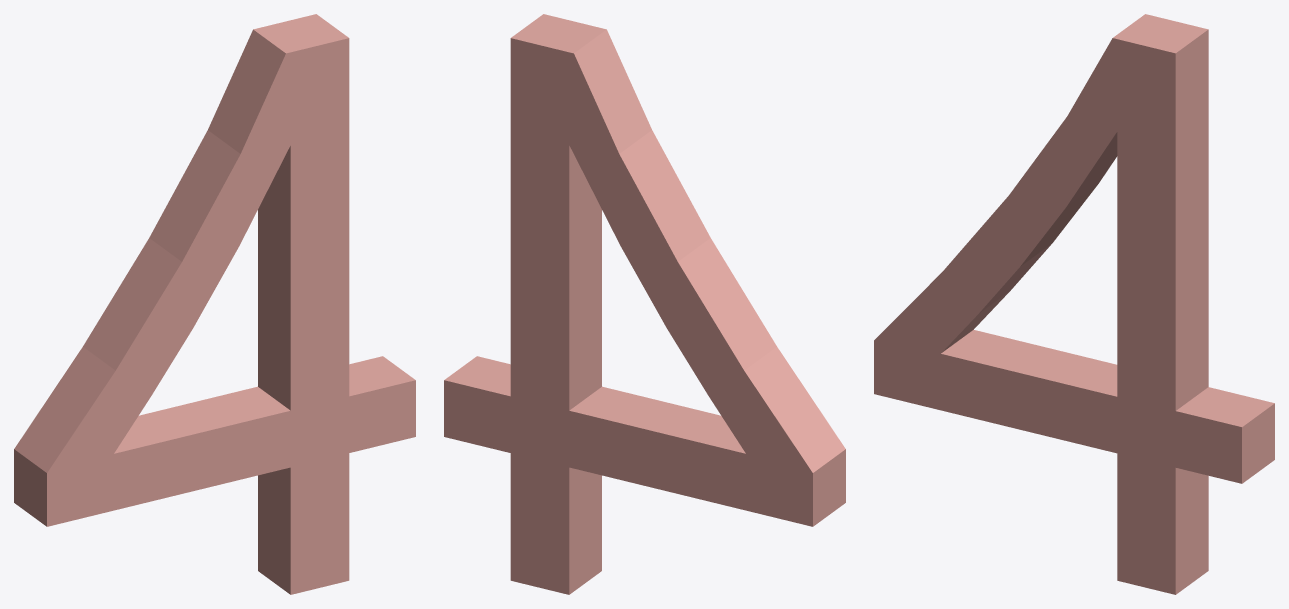
The model's file is tsifa3.fbx.
The picture shows the model from 3 angles, left to right: view 1: azimuth 30°, elevation 25°; view 2: azimuth 150°, elevation 25°; view 3: azimuth 330°, elevation 25°; orthographic projection.
Visible parts, largest first — view 1: Extrude_6; view 2: Extrude_6; view 3: Extrude_6.
Part boxes in pixels (left/top/right/bottom): Extrude_6: left=14, top=14, right=415, bottom=594; Extrude_6: left=444, top=14, right=845, bottom=594; Extrude_6: left=874, top=14, right=1274, bottom=594.
Size of the model in its own units: 6.47 by 9.1 by 1.
